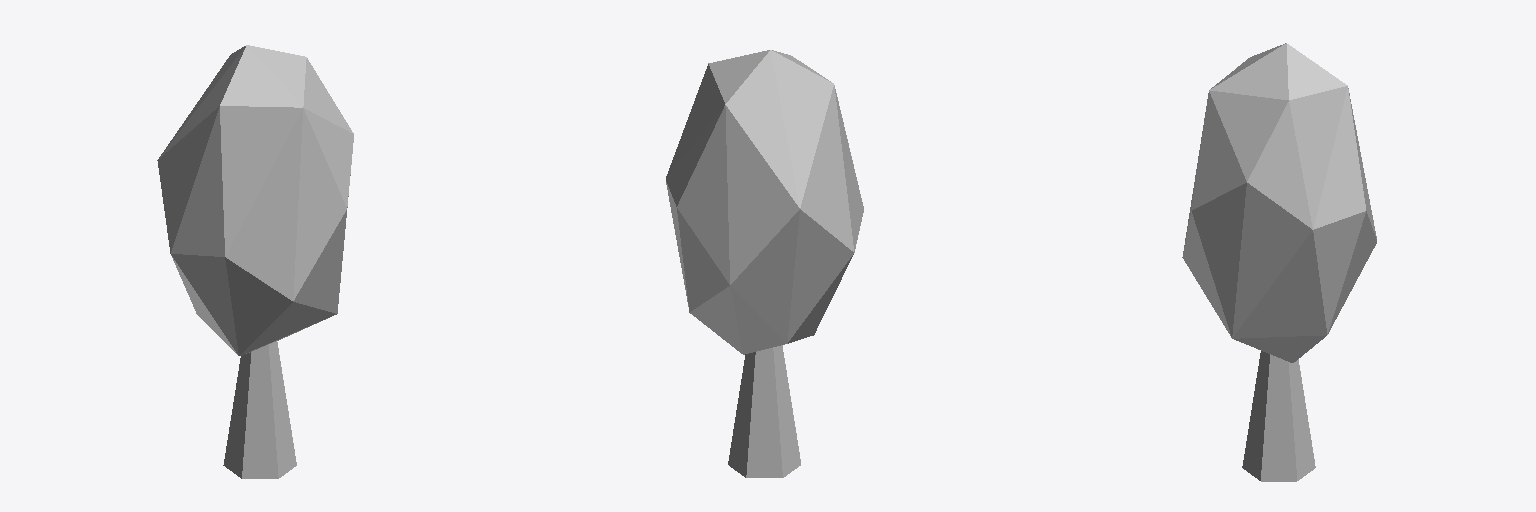
The model's file is Natures_Bush_01.obj.
The picture shows the model from 3 angles: view 1: azimuth 30°, elevation 25°; view 2: azimuth 150°, elevation 25°; view 3: azimuth 270°, elevation 25°; orthographic projection.
Parts seen in each view (by area): view 1: Natures_Bush_01; view 2: Natures_Bush_01; view 3: Natures_Bush_01.
Boxes of the visible parts, box(x1,y1,x2,y2) form: Natures_Bush_01: box(157, 45, 353, 478); Natures_Bush_01: box(666, 50, 863, 477); Natures_Bush_01: box(1182, 43, 1376, 481).
Size of the model in its own units: 51.8 by 121 by 50.86.